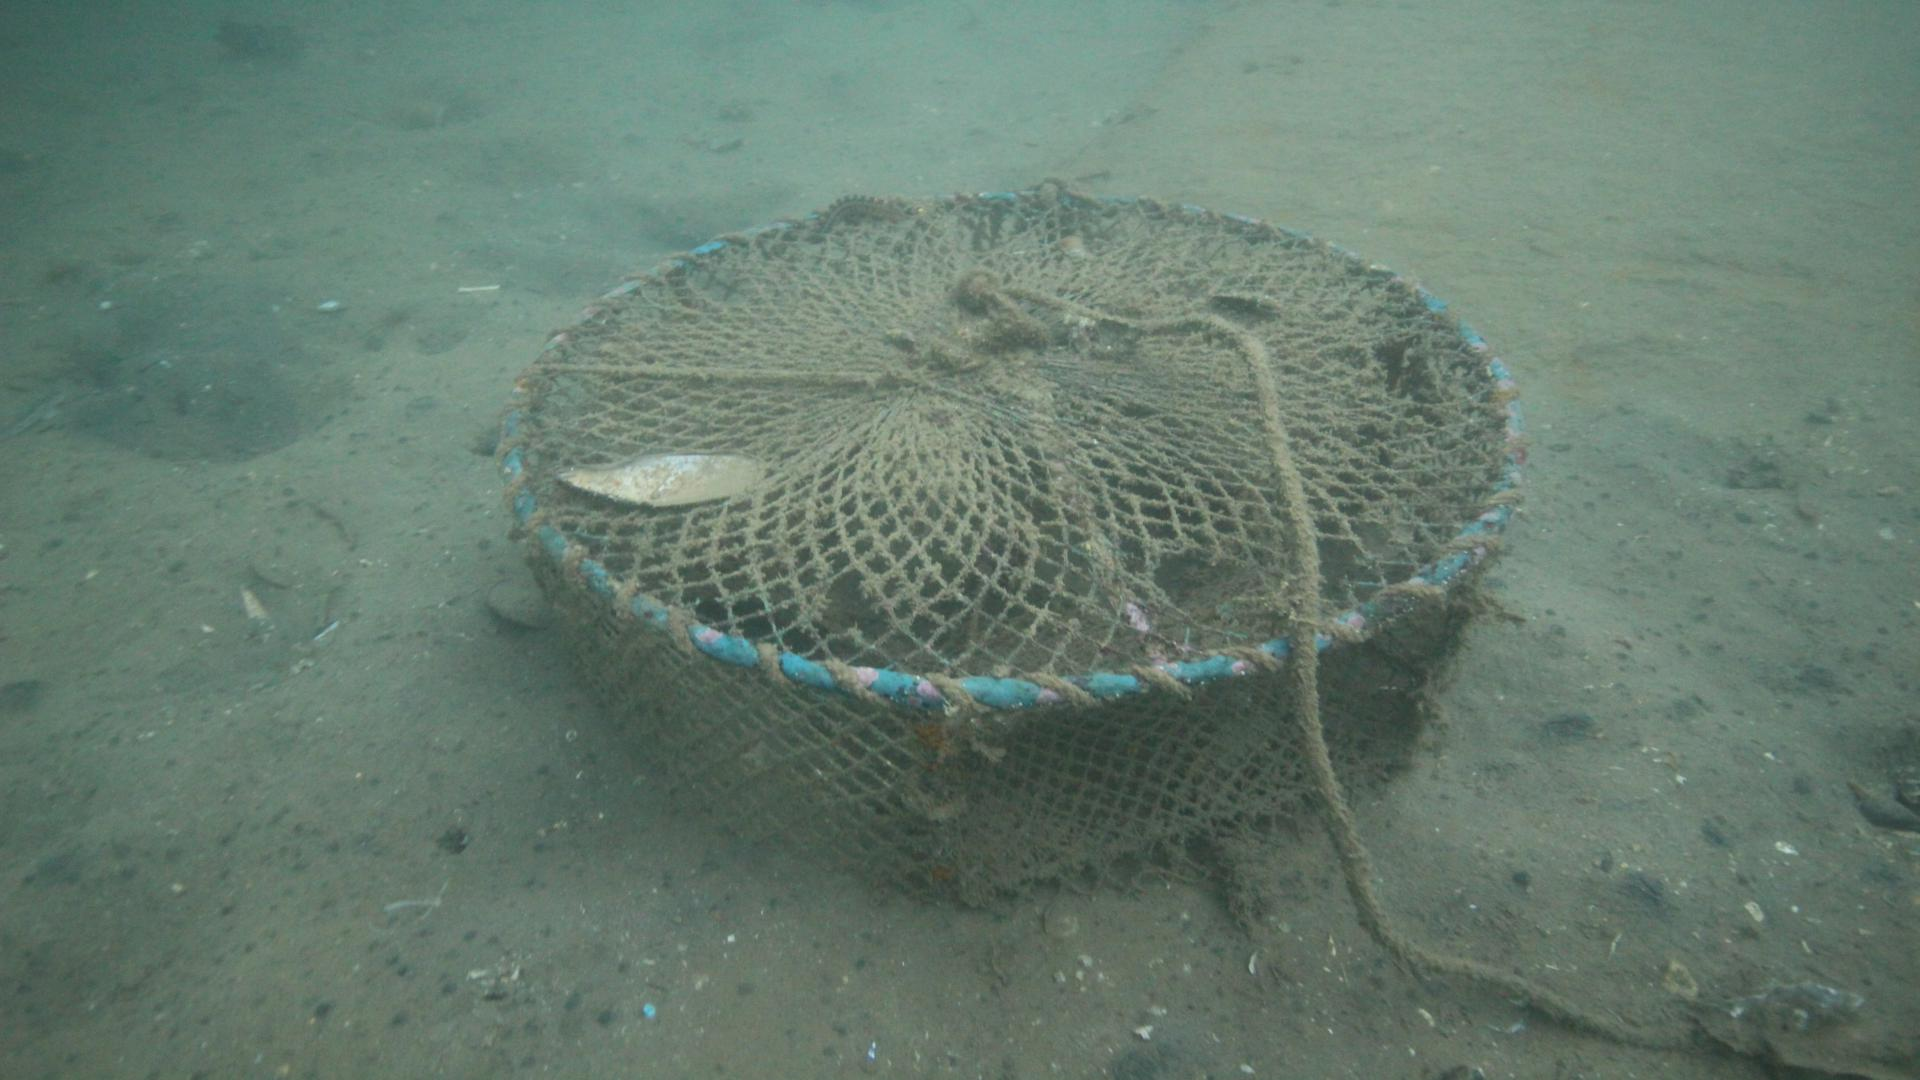circular fish trap: (496, 185, 1528, 907)
